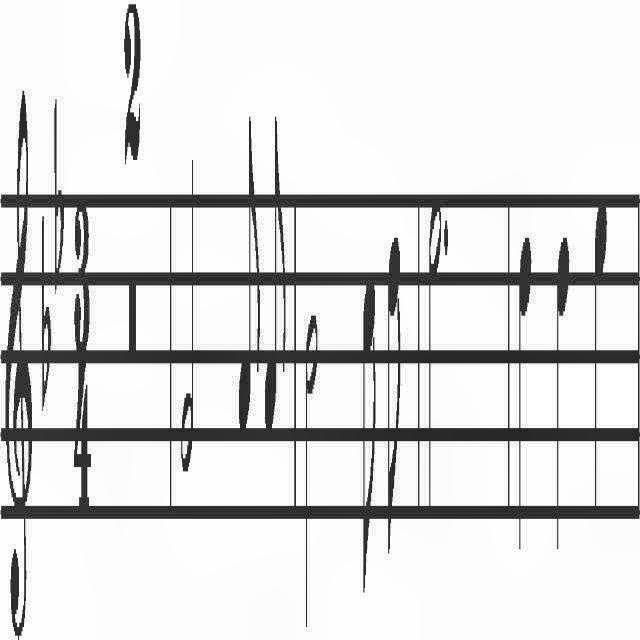Bemol: (52, 90, 66, 298), (40, 200, 52, 420)
Eighth-note: (236, 104, 260, 443), (262, 109, 286, 439), (386, 230, 402, 570), (362, 268, 378, 600)
Half-note: (304, 304, 320, 640), (180, 146, 196, 478), (428, 190, 442, 530)
Quarter-note: (592, 188, 608, 520), (554, 235, 570, 560), (518, 227, 532, 566)
